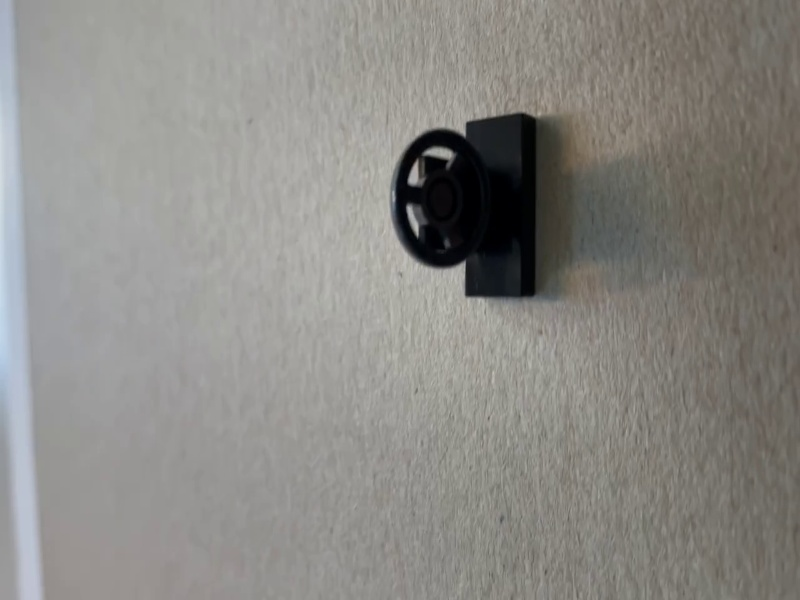steering wheel: (388, 112, 541, 303)
